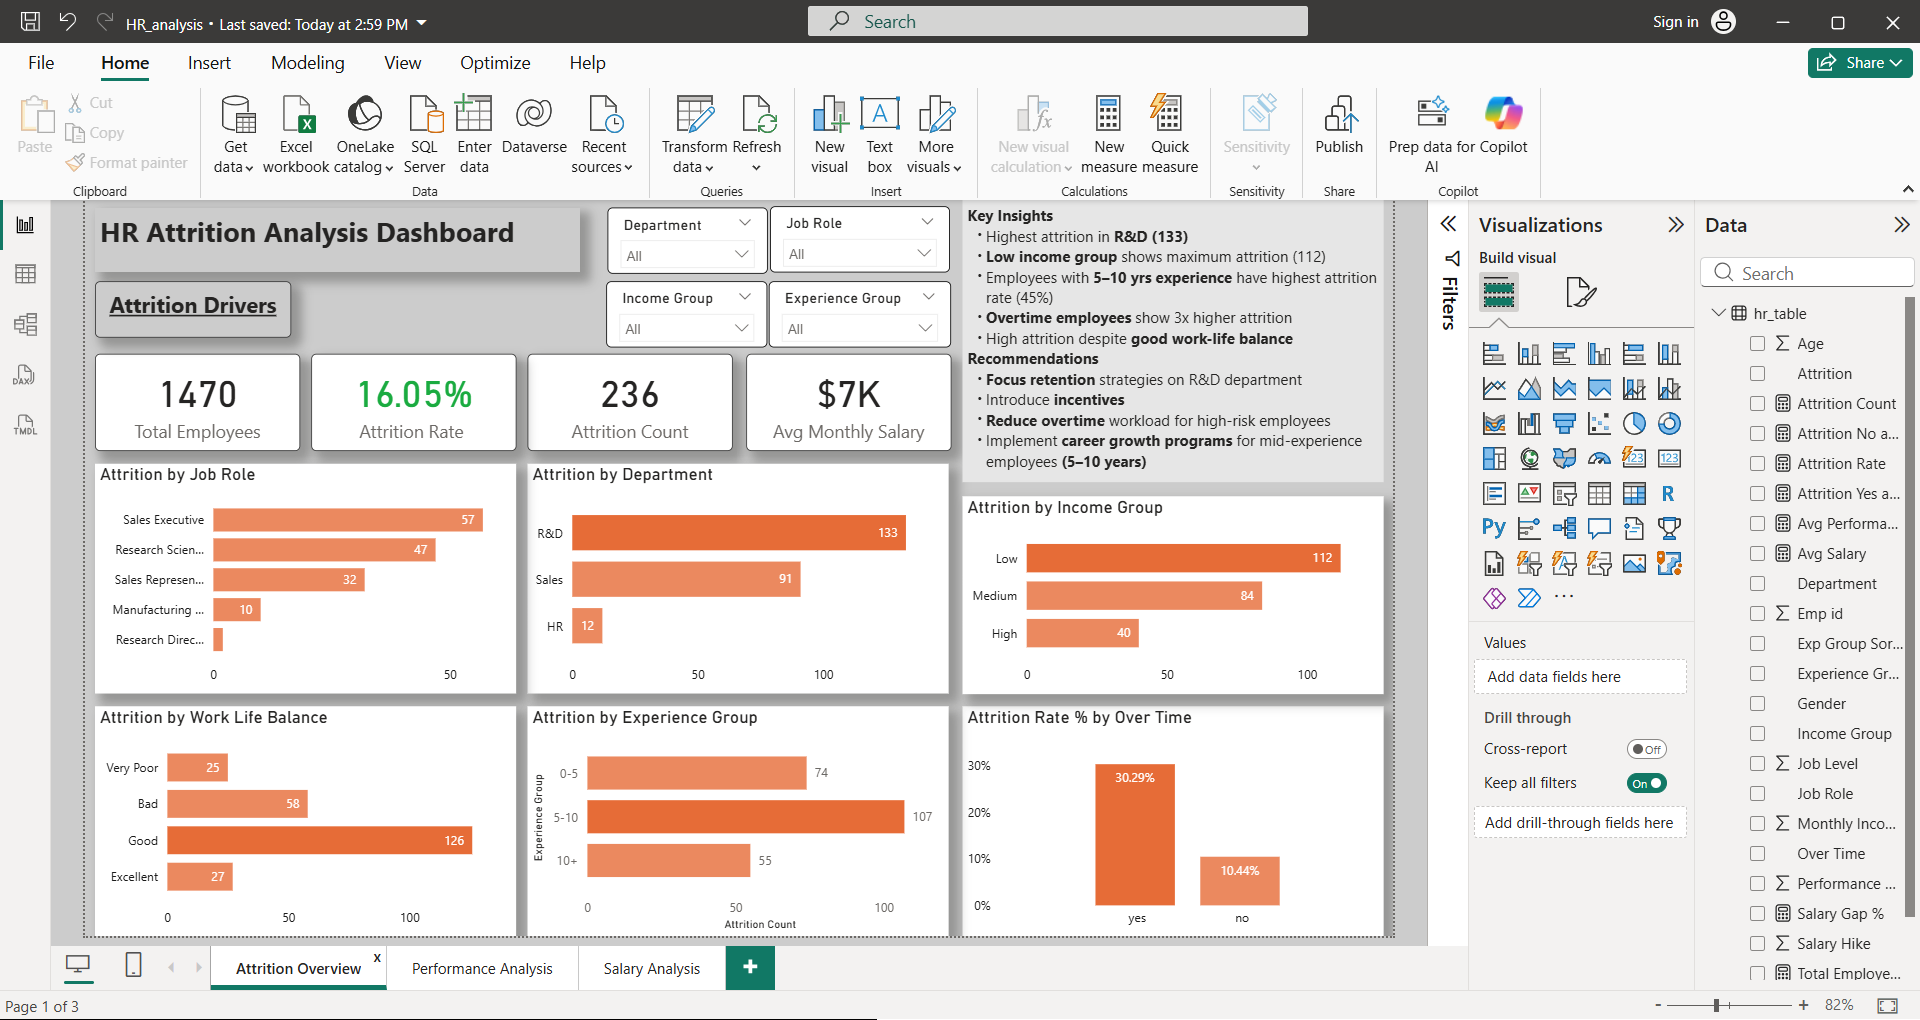

Layout of this report page (visuals, bound fields, positions):
{"tool":"powerbi","page":{"name":"Attrition Overview","canvas":[1280,720],"ordinal":0},"visuals":[{"type":"card","fields":{"Values":["hr_table.Attrition Count"]},"box":[432.9,150.4,200.5,95.4],"z":0},{"type":"card","fields":{"Values":["hr_table.Total Employees"]},"box":[9.8,150.4,200.5,95.4],"z":1000},{"type":"card","fields":{"Values":["hr_table.Avg Salary"]},"box":[646.9,150.4,200.5,95.4],"z":2000},{"type":"card","fields":{"Values":["hr_table.Attrition Rate"]},"box":[221.3,150.4,200.5,95.4],"z":3000},{"type":"columnChart","title":"Attrition Rate % by Over Time","fields":{"Category":["hr_table.Over Time"],"Y":["hr_table.Attrition Rate"]},"box":[858.4,495.2,412.1,225],"z":4000},{"type":"clusteredBarChart","title":"Attrition by Department","fields":{"Category":["hr_table.Department"],"Y":["hr_table.Attrition Count"]},"box":[432.9,258,412.1,225],"z":5000},{"type":"clusteredBarChart","title":"Attrition  by Job Role","fields":{"Category":["hr_table.job_role"],"Y":["hr_table.Attrition Count"]},"box":[9.8,258,412.1,225],"z":6000},{"type":"clusteredBarChart","title":"Attrition by Work Life Balance","fields":{"Y":["hr_table.Attrition Count"],"Category":["hr_table.Work Life Balance Label"]},"box":[9.8,495.2,412.1,225],"z":7000},{"type":"slicer","fields":{"Values":["hr_table.Department"]},"box":[511.1,7.3,156.5,64.8],"z":8000},{"type":"slicer","fields":{"Values":["hr_table.Income Group"]},"box":[509.9,79.5,157.7,64.8],"z":9000},{"type":"slicer","fields":{"Values":["hr_table.Job Role"]},"box":[670.1,6.1,176.1,64.8],"z":10000},{"type":"slicer","fields":{"Values":["hr_table.Experience Group"]},"box":[668.9,79.5,178.5,64.8],"z":11000},{"type":"clusteredBarChart","title":"Attrition by Income Group","fields":{"Category":["hr_table.Income Group"],"Y":["hr_table.Attrition Count"]},"box":[858.4,289.8,412.1,193.2],"z":12000},{"type":"textbox","box":[9.8,7.3,474.5,63.6],"z":13000},{"type":"clusteredBarChart","title":"Attrition by Experience Group","fields":{"Category":["hr_table.Experience Group"],"Y":["hr_table.Attrition Count"]},"box":[432.9,495.2,412.1,225],"z":14000},{"type":"textbox","box":[9.8,79.5,192,55],"z":15000},{"type":"textbox","box":[858.4,0,412.1,276.4],"z":16000}]}

Visuals, with their boxes on the page's 1280x720 design canvas (x1, y1, x2, y2). These are canvas units, not pixel positions in the 1920x1020 screenshot, which may show the page scaled, cropped or inside an application window:
card - hr_table.Attrition Count: detection(433, 150, 633, 246)
card - hr_table.Total Employees: detection(10, 150, 210, 246)
card - hr_table.Avg Salary: detection(647, 150, 847, 246)
card - hr_table.Attrition Rate: detection(221, 150, 422, 246)
"Attrition Rate % by Over Time" columnChart: detection(858, 495, 1270, 720)
"Attrition by Department" clusteredBarChart: detection(433, 258, 845, 483)
"Attrition  by Job Role" clusteredBarChart: detection(10, 258, 422, 483)
"Attrition by Work Life Balance" clusteredBarChart: detection(10, 495, 422, 720)
slicer - hr_table.Department: detection(511, 7, 668, 72)
slicer - hr_table.Income Group: detection(510, 80, 668, 144)
slicer - hr_table.Job Role: detection(670, 6, 846, 71)
slicer - hr_table.Experience Group: detection(669, 80, 847, 144)
"Attrition by Income Group" clusteredBarChart: detection(858, 290, 1270, 483)
textbox: detection(10, 7, 484, 71)
"Attrition by Experience Group" clusteredBarChart: detection(433, 495, 845, 720)
textbox: detection(10, 80, 202, 134)
textbox: detection(858, 0, 1270, 276)
